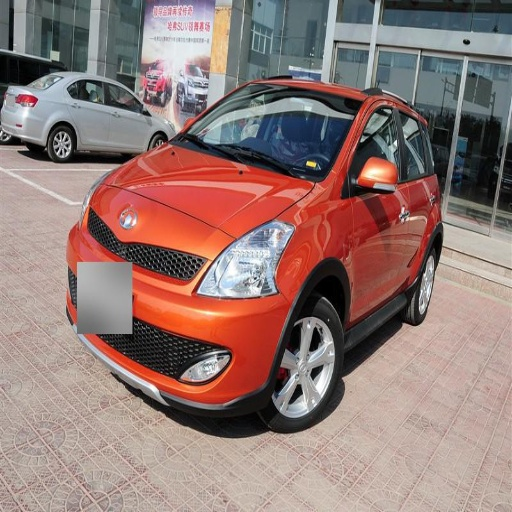back_right_door: (72, 80, 106, 130)
front_bumper: (77, 238, 295, 420)
front_glass: (171, 88, 360, 181)
front_left_door: (347, 98, 408, 323)
